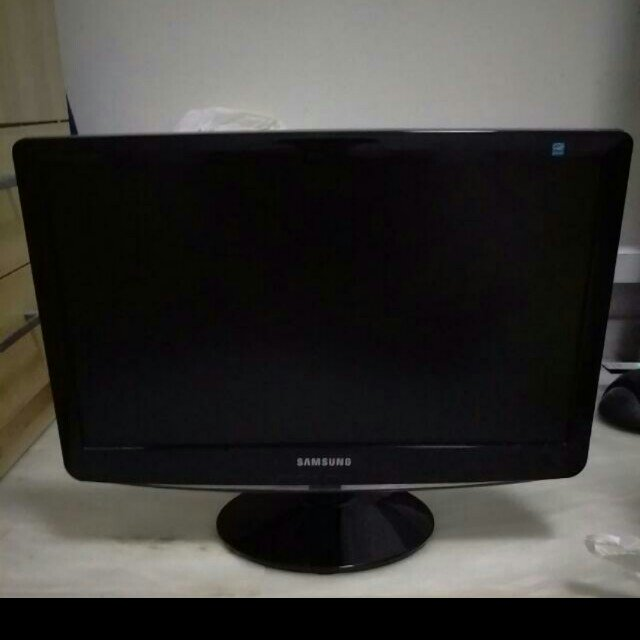samsung-monitor-b2030: (23, 124, 636, 574)
